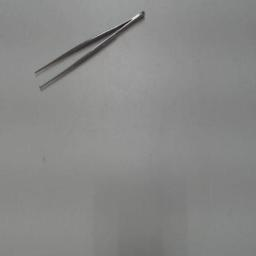Gillies Toothed Dissector: (28, 6, 150, 96)
